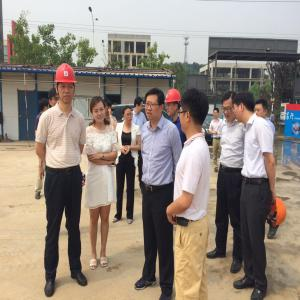none: (179, 89, 210, 135), (144, 87, 167, 122), (234, 92, 256, 128), (222, 91, 236, 123), (91, 96, 106, 125), (255, 99, 269, 121), (48, 88, 60, 108), (122, 106, 134, 125), (39, 98, 51, 113), (134, 98, 145, 113), (103, 99, 113, 115), (213, 109, 220, 121), (271, 112, 274, 116)
red: (56, 64, 77, 105), (165, 88, 183, 117)
